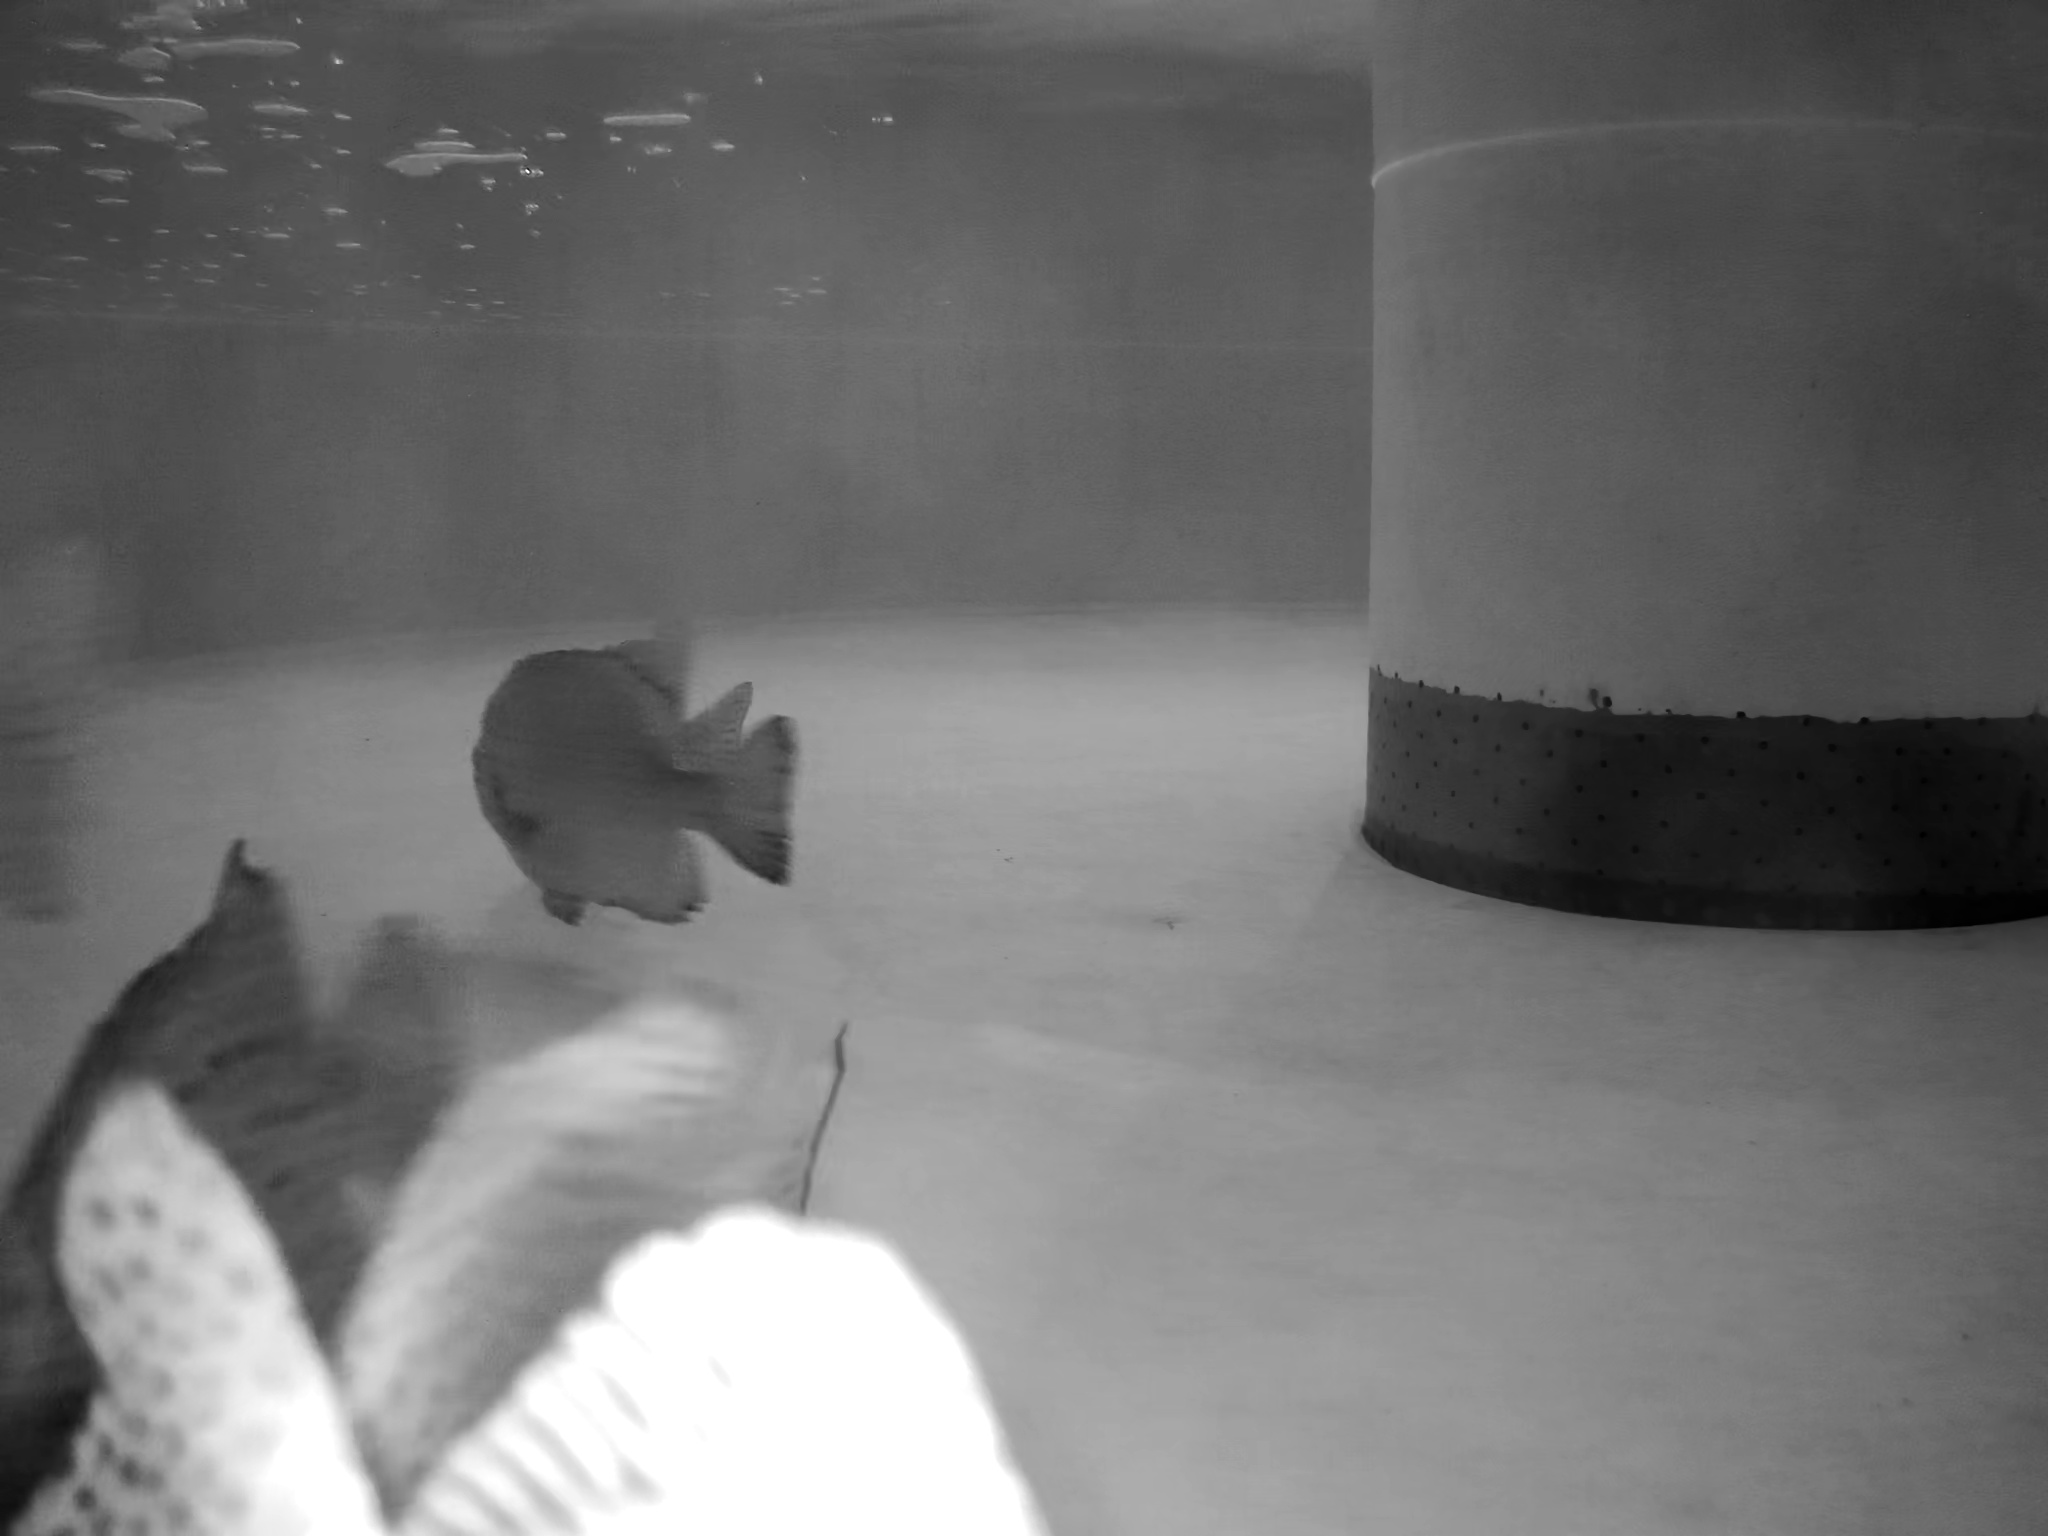fish: (35, 1073, 1051, 1536), (2, 836, 450, 1536), (319, 984, 805, 1536), (469, 634, 797, 931), (2, 524, 108, 944), (629, 671, 758, 854)
